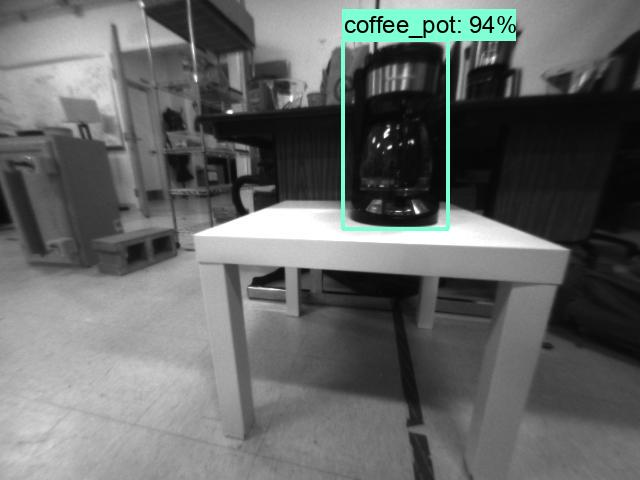coffee_pot: (348, 43, 439, 226)
